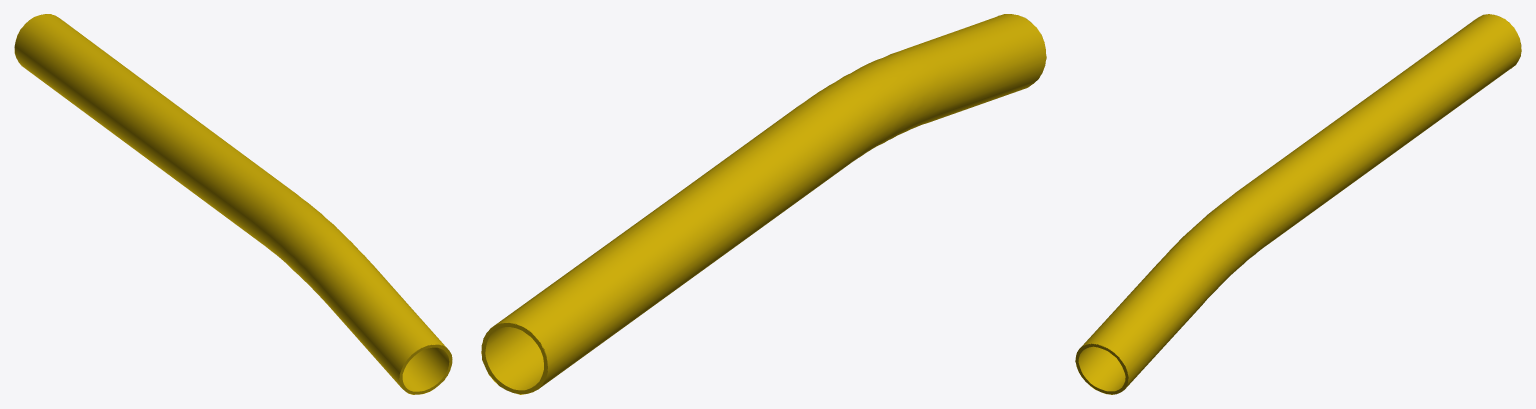
Rendered from original_11.obj.
3 renders of one model, left to right at view 1: azimuth 30°, elevation 25°; view 2: azimuth 150°, elevation 25°; view 3: azimuth 330°, elevation 25°, orthographic. The views are drawn at different scales.
Parts seen in each view (by area): view 1: #ID73; view 2: #ID73; view 3: #ID73.
Part boxes in pixels (box(x1,y1,x2,y2)): #ID73: box(14, 14, 452, 394); #ID73: box(481, 14, 1046, 394); #ID73: box(1075, 14, 1521, 394).
Size of the model in its own units: 0.0274 by 0.0449 by 0.3303.
